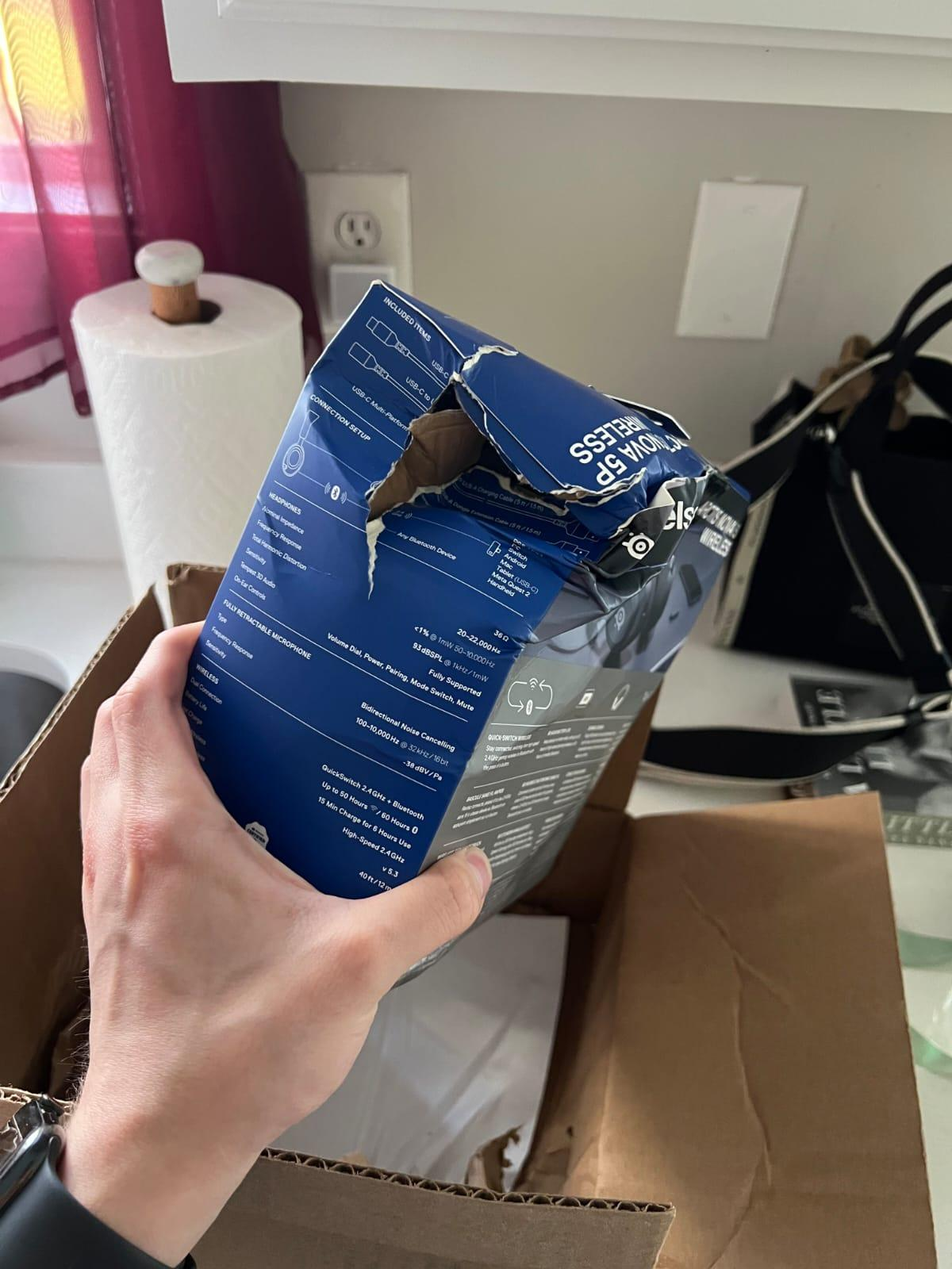damaged package: (356, 363, 700, 596)
undamaged: (162, 267, 797, 1014)
